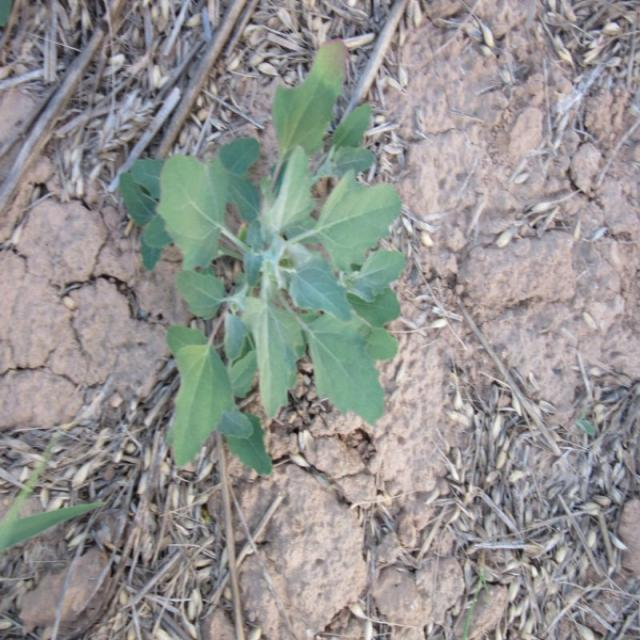ca: (119, 40, 404, 476)
